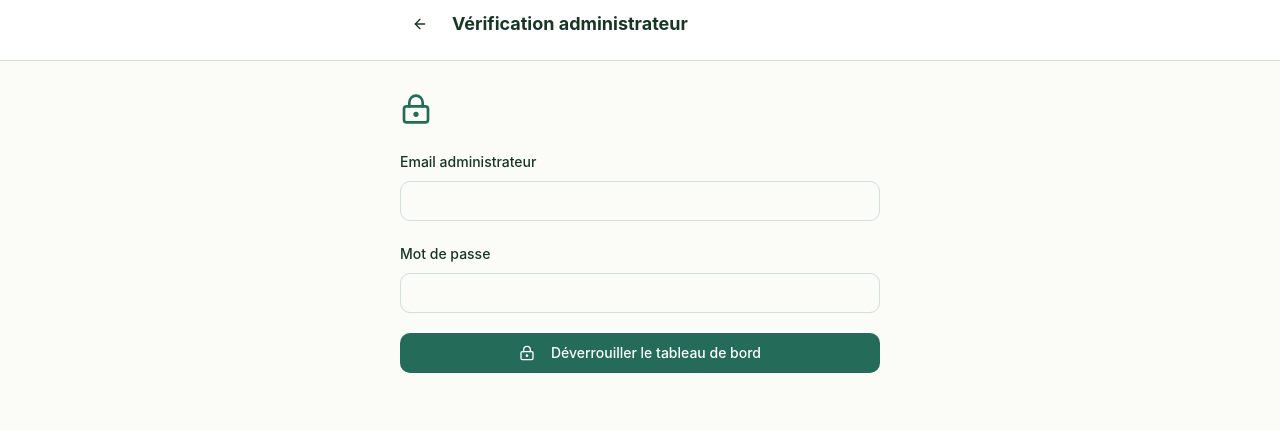
Test case: Admin credential verification › keeps invalid passwords locked and clears the password input
Type "tondegeorges8@gmail.com" into the field labelled "Email administrateur".
click(640, 201); type("tondegeorges8@gmail.com")  # box [400, 181, 880, 221]
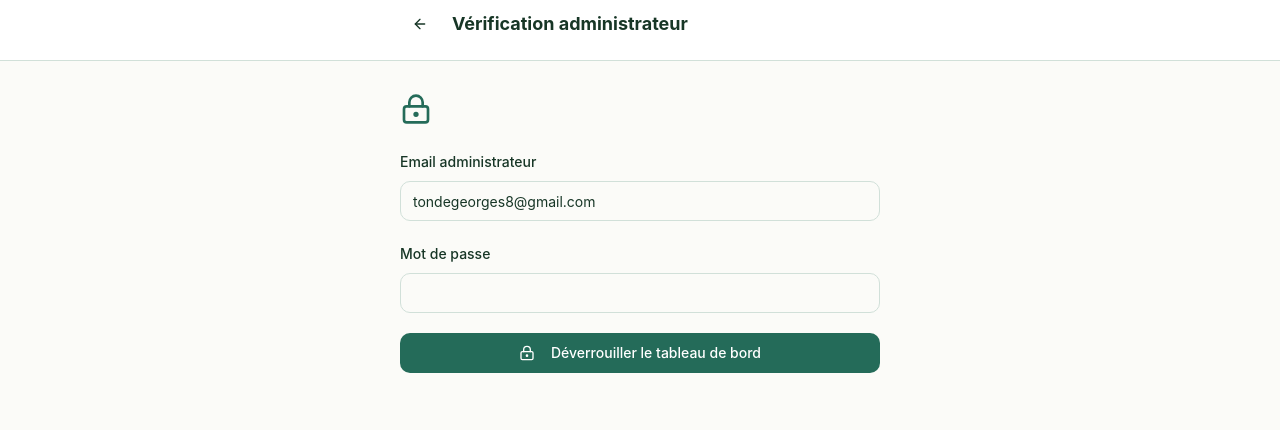
Type "test-only-password" into the password field labelled "Mot de passe".
click(640, 293); type("test-only-password")  # box [400, 273, 880, 313]
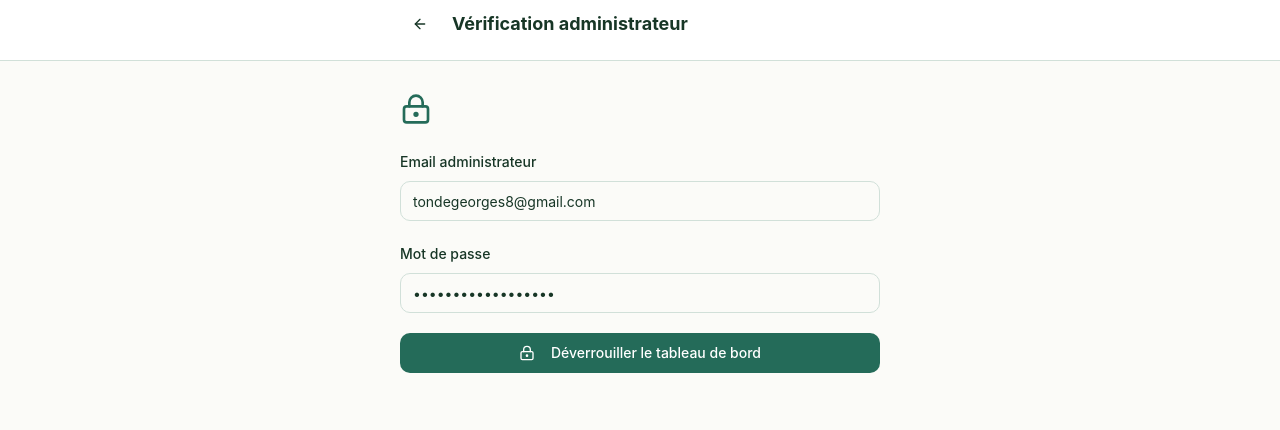
Click the button "Déverrouiller le tableau de bord".
click(640, 353)  # box [400, 333, 880, 373]
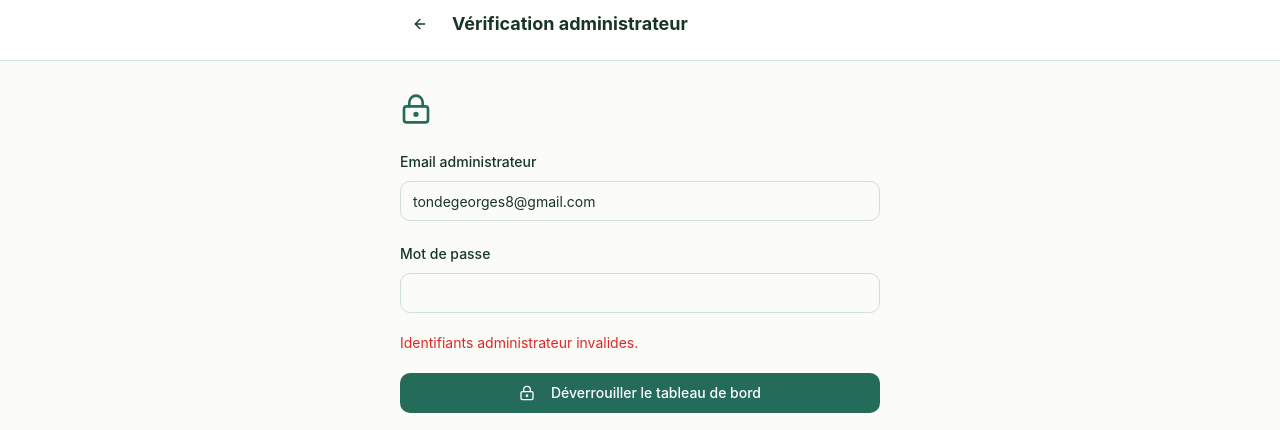
Expected: the message "Identifiants administrateur invalides." is shown, [400, 334, 638, 351]
Expected: the password field labelled "Mot de passe" is empty, [400, 273, 880, 313]
